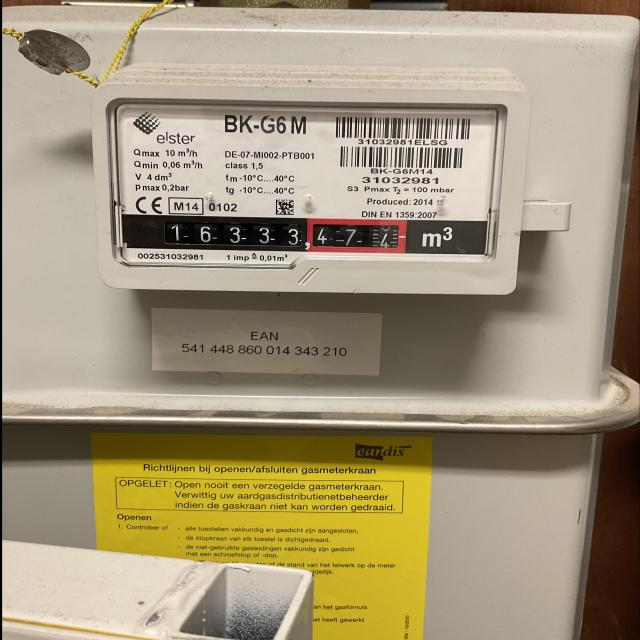gaz_meter: (110, 95, 498, 265)
indication: (148, 217, 410, 252)
